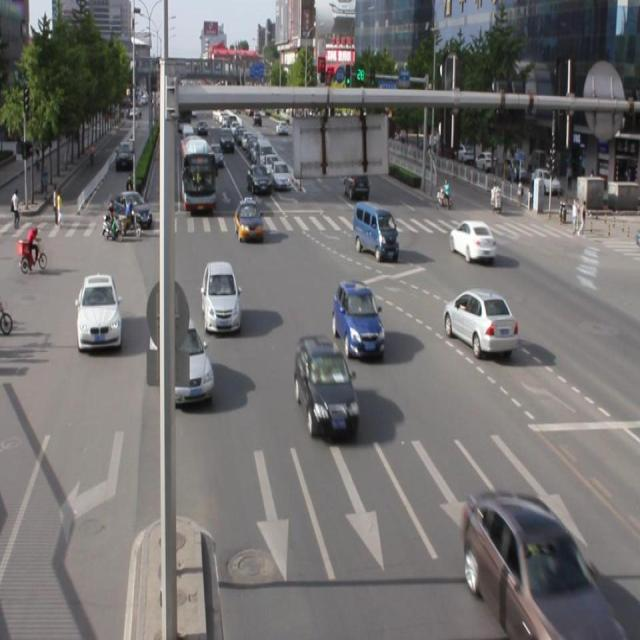car: (461, 488, 628, 640), (293, 332, 358, 436), (150, 314, 213, 404), (442, 286, 516, 353), (333, 280, 384, 359), (77, 272, 123, 353), (200, 260, 241, 335), (449, 218, 496, 260), (235, 199, 263, 241)
truck: (353, 202, 398, 258)
